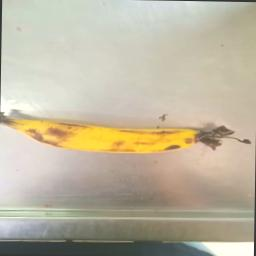Banana Unripe: (1, 112, 252, 153)
